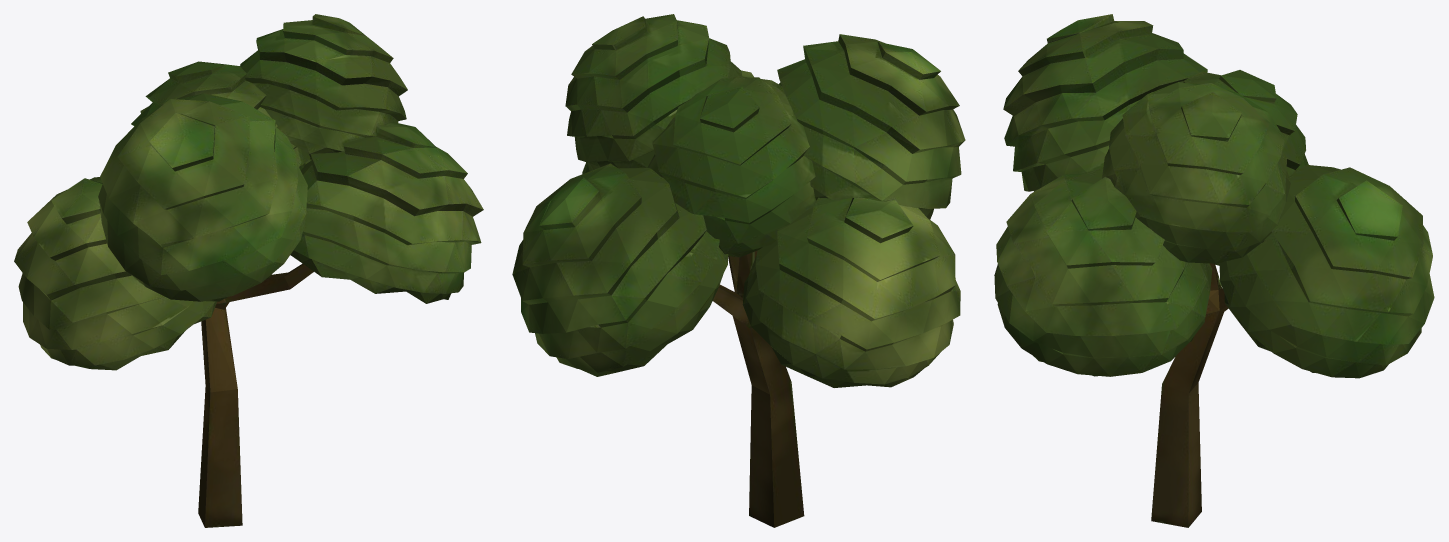
The model's file is Hackaton_IcoTree.fbx.
The picture shows the model from 3 angles, left to right: view 1: azimuth 30°, elevation 25°; view 2: azimuth 150°, elevation 25°; view 3: azimuth 270°, elevation 25°; orthographic projection. The views are drawn at different scales.
Parts seen in each view (by area): view 1: Tree; view 2: Tree; view 3: Tree.
Part boxes in pixels (box(x1,y1,x2,y2)): Tree: box(14, 14, 483, 527); Tree: box(512, 14, 965, 527); Tree: box(994, 14, 1434, 527).
Bounding box in the file's own units: 462 × 531 × 440.
